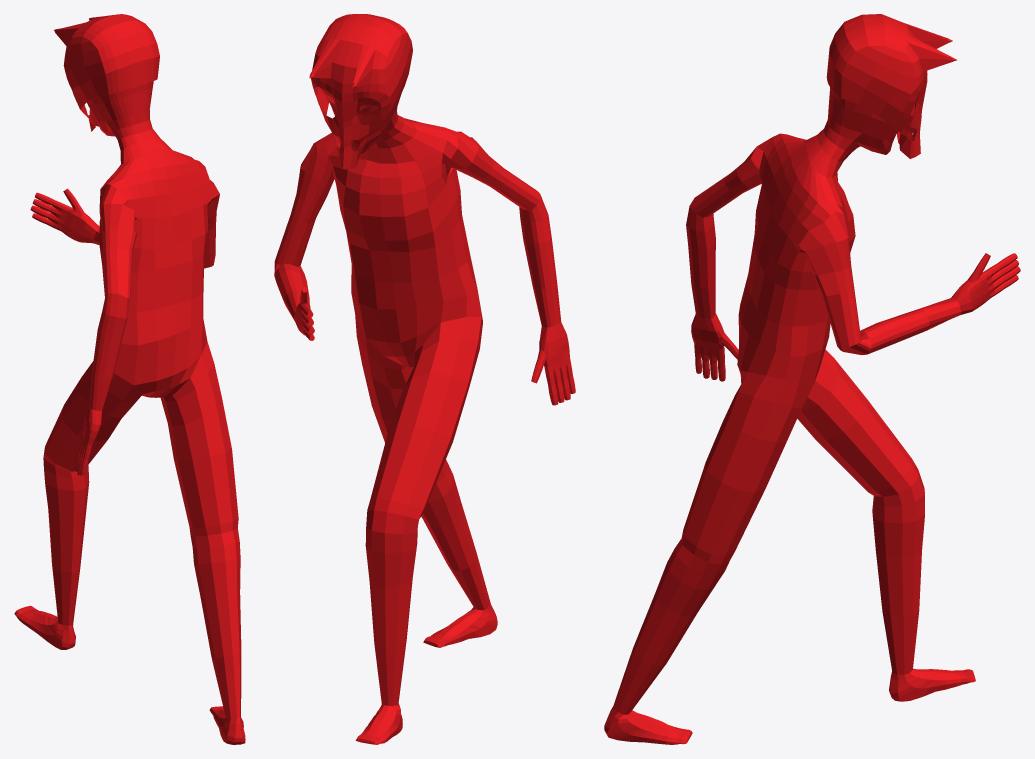
File: marchaE_000037.obj
The picture shows the model from 3 angles, left to right: view 1: azimuth 30°, elevation 25°; view 2: azimuth 150°, elevation 25°; view 3: azimuth 270°, elevation 25°; orthographic projection. The views are drawn at different scales.
Parts seen in each view (by area): view 1: Plane.002_Plane.001; view 2: Plane.002_Plane.001; view 3: Plane.002_Plane.001.
Boxes of the visible parts, x1,y1,x2,y2 form: Plane.002_Plane.001: [14, 14, 245, 744]; Plane.002_Plane.001: [274, 14, 575, 744]; Plane.002_Plane.001: [604, 14, 1020, 744].
Size of the model in its own units: 2.22 by 6.7 by 3.55.
